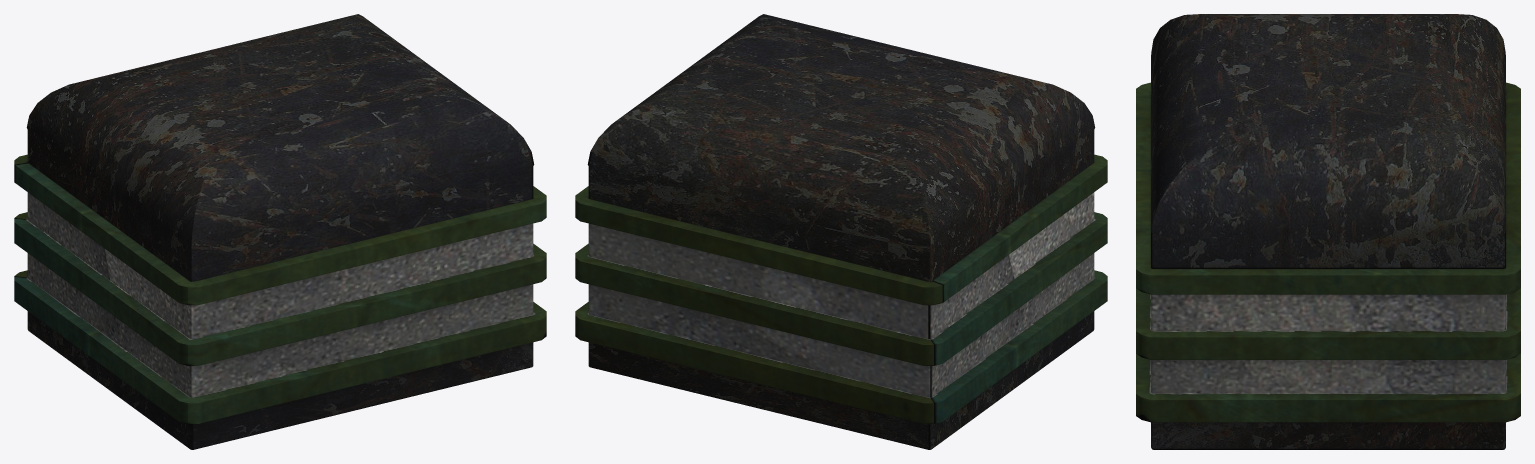
File: D_Block.fbx
3 views of the same model, side by side, from view 1: azimuth 30°, elevation 25°; view 2: azimuth 150°, elevation 25°; view 3: azimuth 270°, elevation 25° (orthographic). The views are drawn at different scales.
Parts seen in each view (by area): view 1: pCube45; view 2: pCube45; view 3: pCube45.
Part boxes in pixels (<box>): pCube45: <box>14,14,546,449</box>; pCube45: <box>575,14,1107,449</box>; pCube45: <box>1136,14,1520,449</box>.
Size of the model in its own units: 6.26 by 4.3 by 5.27.
1 material, 1 textured.
